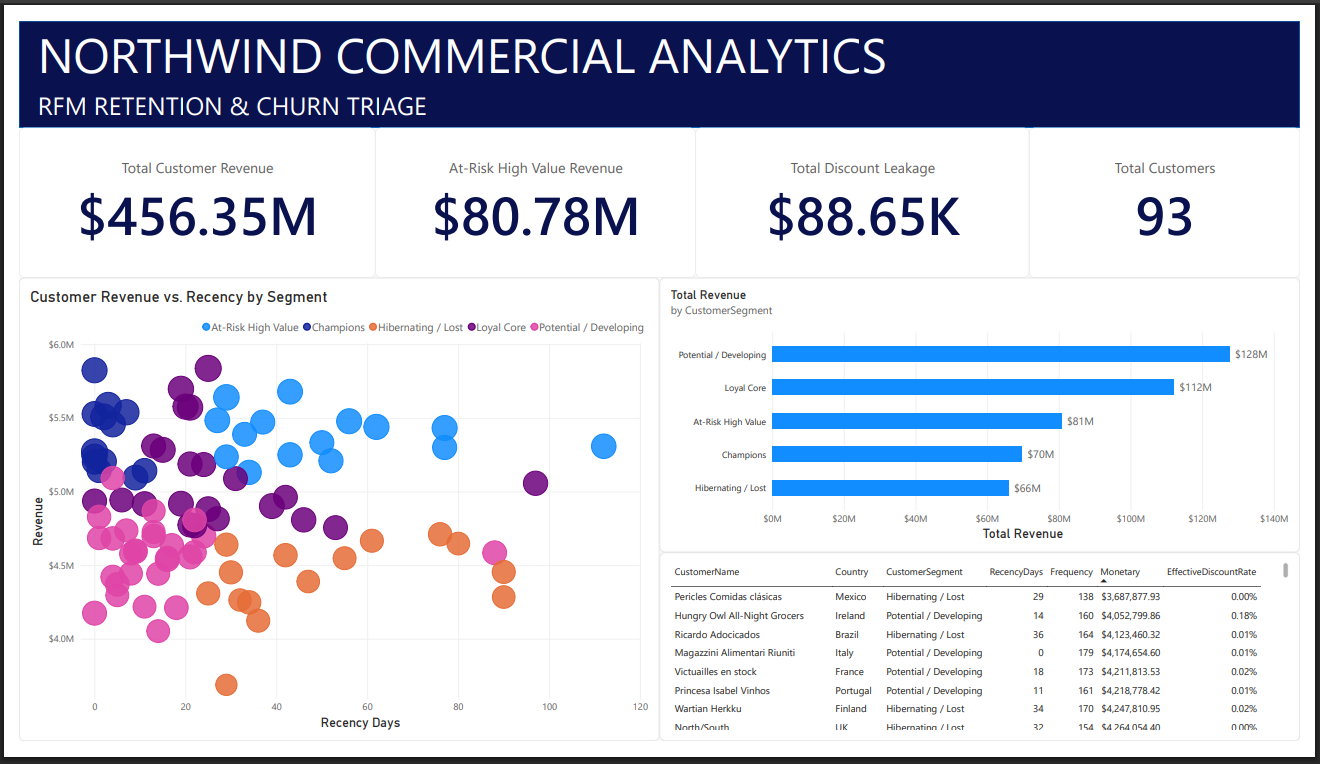

Layout of this report page (visuals, bound fields, positions):
{"tool":"powerbi","page":{"name":"RFM Retention Triage","canvas":[1920,1080],"ordinal":0},"visuals":[{"type":"shape","box":[0,0,1920,160.5],"z":0},{"type":"scatterChart","title":"Customer Revenue vs. Recency by Segment","fields":{"Category":["vw_RFM_and_Margin.CustomerName"],"Series":["vw_RFM_and_Margin.CustomerSegment"],"Size":["Sum(vw_RFM_and_Margin.Frequency)"],"X":["Avg(vw_RFM_and_Margin.RecencyDays)"],"Y":["Sum(vw_RFM_and_Margin.Monetary)"]},"box":[0,385.2,960,694.5],"z":1000},{"type":"tableEx","fields":{"Values":["vw_RFM_and_Margin.CustomerName","vw_RFM_and_Margin.Country","vw_RFM_and_Margin.CustomerSegment","vw_RFM_and_Margin.RecencyDays","vw_RFM_and_Margin.Frequency","vw_RFM_and_Margin.Monetary","vw_RFM_and_Margin.EffectiveDiscountRate"]},"box":[960,796.6,960,283],"z":2000},{"type":"cardVisual","fields":{"Data":["Sum(vw_RFM_and_Margin.Monetary)"]},"box":[0,160.5,534,224.7],"z":3000},{"type":"cardVisual","fields":{"Data":["vw_RFM_and_Margin.At-Risk High Value Revenue"]},"box":[534,160.5,480,224.7],"z":4000},{"type":"cardVisual","fields":{"Data":["Sum(py_discount_tier_summary.TotalDiscountLeakage)"]},"box":[1014,160.5,500.4,224.7],"z":5000},{"type":"cardVisual","fields":{"Data":["Count(vw_RFM_and_Margin.CustomerID)"]},"box":[1514.4,160.5,405.6,224.7],"z":6000},{"type":"clusteredBarChart","fields":{"Category":["vw_RFM_and_Margin.CustomerSegment"],"Y":["Sum(vw_RFM_and_Margin.Monetary)"]},"box":[960,385.2,960,411.4],"z":7000},{"type":"textbox","box":[27.7,0,1330.6,112.3],"z":8000},{"type":"textbox","box":[27.7,100.7,716.4,59.8],"z":8001}]}

Visuals, with their boxes in screenshot pixels (x1, y1, x2, y2), scaled from the page's 1920x1080 canvas onto the 1320x764 screenshot:
shape: (left=0, top=0, right=1319, bottom=114)
"Customer Revenue vs. Recency by Segment" scatterChart: (left=0, top=272, right=660, bottom=763)
tableEx - vw_RFM_and_Margin.CustomerName x vw_RFM_and_Margin.Country: (left=660, top=564, right=1319, bottom=763)
cardVisual - Sum(vw_RFM_and_Margin.Monetary): (left=0, top=114, right=367, bottom=272)
cardVisual - vw_RFM_and_Margin.At-Risk High Value Revenue: (left=367, top=114, right=697, bottom=272)
cardVisual - Sum(py_discount_tier_summary.TotalDiscountLeakage): (left=697, top=114, right=1041, bottom=272)
cardVisual - Count(vw_RFM_and_Margin.CustomerID): (left=1041, top=114, right=1319, bottom=272)
clusteredBarChart - vw_RFM_and_Margin.CustomerSegment x Sum(vw_RFM_and_Margin.Monetary): (left=660, top=272, right=1319, bottom=564)
textbox: (left=19, top=0, right=934, bottom=79)
textbox: (left=19, top=71, right=512, bottom=114)
